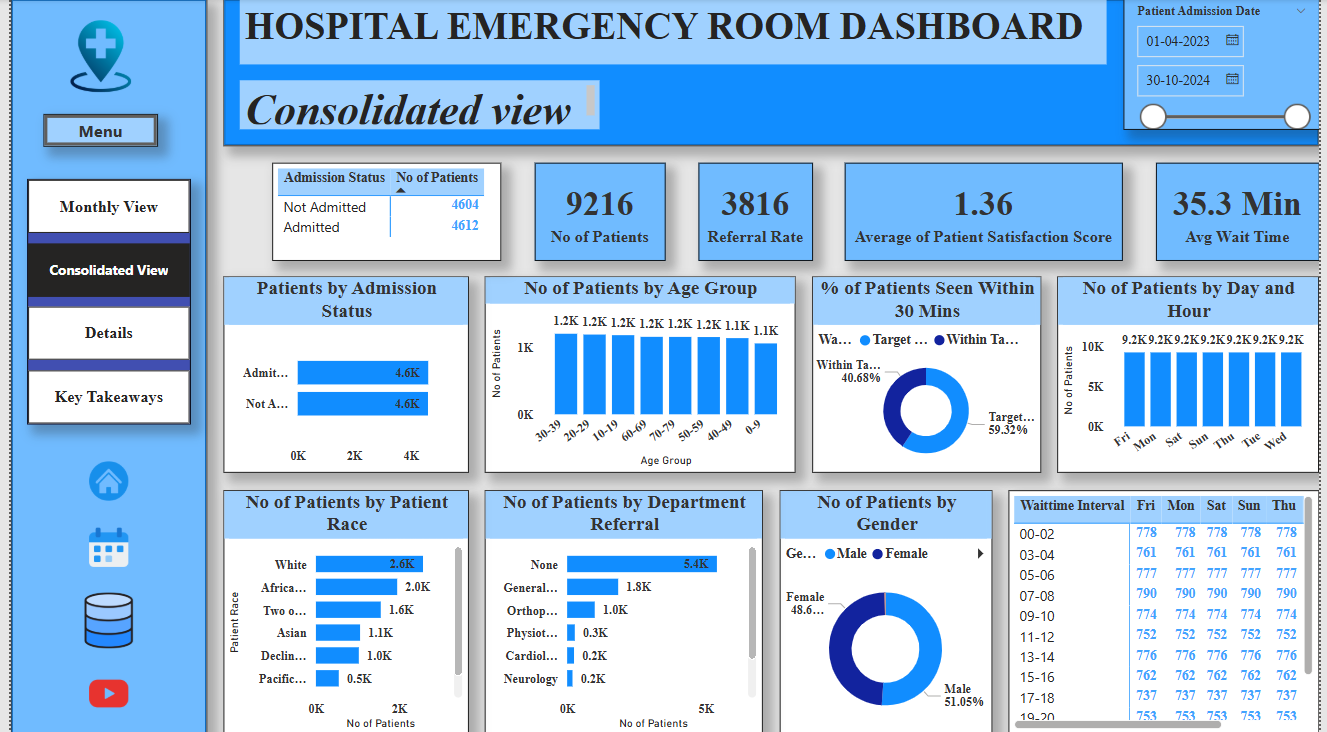

The dashboard page shown, as its layout file describes it:
{"tool":"powerbi","page":{"name":"Consolidated View","canvas":[1280,720],"ordinal":1},"visuals":[{"type":"shape","box":[0,0,192,720],"z":0},{"type":"shape","box":[208,0,1072,144],"z":1000},{"type":"card","fields":{"Values":["Hospital ER_Hospital ER.No of Patients"]},"box":[512,160,128,96],"z":2000},{"type":"card","fields":{"Values":["Hospital ER_Hospital ER.Referral Rate"]},"box":[672,160,112,96],"z":3000},{"type":"card","fields":{"Values":["Avg(Hospital ER_Hospital ER.Patient Satisfaction Score)"]},"box":[816,160,272,96],"z":4000},{"type":"card","fields":{"Values":["Hospital ER_Hospital ER.Avg Wait Time"]},"box":[1120,160,160,96],"z":5000},{"type":"donutChart","title":"% of Patients Seen Within 30 Mins","fields":{"Y":["Hospital ER_Hospital ER.No of Patients"],"Category":["Hospital ER_Hospital ER.Waittime Status"]},"box":[784,272,224,192],"z":6000},{"type":"donutChart","fields":{"Category":["Hospital ER_Hospital ER.Full Gender"],"Y":["Hospital ER_Hospital ER.No of Patients"]},"box":[752,480,208,240],"z":7000},{"type":"clusteredBarChart","fields":{"Category":["Hospital ER_Hospital ER.Department Referral"],"Y":["Hospital ER_Hospital ER.No of Patients"]},"box":[464,480,272,240],"z":8000},{"type":"clusteredBarChart","fields":{"Category":["Hospital ER_Hospital ER.Patient Race"],"Y":["Hospital ER_Hospital ER.No of Patients"]},"box":[208,480,240,240],"z":9000},{"type":"clusteredColumnChart","fields":{"Category":["Hospital ER_Hospital ER.Age Group"],"Y":["Hospital ER_Hospital ER.No of Patients"]},"box":[464,272,304,192],"z":10000},{"type":"clusteredColumnChart","title":"No of Patients by Day and Hour","fields":{"Category":["Calendar Table.Day Name"],"Y":["Hospital ER_Hospital ER.No of Patients"]},"box":[1024,272,256,192],"z":11000},{"type":"pivotTable","fields":{"Rows":["Hospital ER_Hospital ER.Admission Status"],"Values":["Hospital ER_Hospital ER.No of Patients"]},"box":[256,160,224,96],"z":12000},{"type":"barChart","title":"Patients by Admission Status","fields":{"Category":["Hospital ER_Hospital ER.Admission Status"],"Y":["Hospital ER_Hospital ER.No of Patients"]},"box":[208,272,240,192],"z":13000},{"type":"pivotTable","fields":{"Columns":["Calendar Table.Day Name"],"Values":["Hospital ER_Hospital ER.No of Patients"],"Rows":["Hospital ER_Hospital ER.Waittime Interval"]},"box":[976,480,304,240],"z":14000},{"type":"textbox","box":[224,0,848,64],"z":15000},{"type":"textbox","box":[224,80,352,48],"z":16000},{"type":"image","box":[16,16,144,80],"z":17000},{"type":"actionButton","box":[32,112,112,32],"z":18000},{"type":"image","box":[64,448,64,48],"z":19000},{"type":"image","box":[64,512,64,48],"z":20000},{"type":"image","box":[64,576,64,64],"z":21000},{"type":"image","box":[64,656,64,48],"z":22000},{"type":"pageNavigator","box":[16,176,160,240],"z":23000},{"type":"slicer","fields":{"Values":["Hospital ER_Hospital ER.Patient Admission Date"]},"box":[1088,0,192,128],"z":24000}]}

Visuals, with their boxes in screenshot pixels (x1, y1, x2, y2), scaled from the page's 1280x720 canvas onto the 1327x732 screenshot:
shape: pyautogui.locateOnScreen(0, 0, 199, 731)
shape: pyautogui.locateOnScreen(216, 0, 1326, 146)
card - Hospital ER_Hospital ER.No of Patients: pyautogui.locateOnScreen(531, 163, 664, 260)
card - Hospital ER_Hospital ER.Referral Rate: pyautogui.locateOnScreen(697, 163, 813, 260)
card - Avg(Hospital ER_Hospital ER.Patient Satisfaction Score): pyautogui.locateOnScreen(846, 163, 1128, 260)
card - Hospital ER_Hospital ER.Avg Wait Time: pyautogui.locateOnScreen(1161, 163, 1326, 260)
"% of Patients Seen Within 30 Mins" donutChart: pyautogui.locateOnScreen(813, 277, 1045, 472)
donutChart - Hospital ER_Hospital ER.Full Gender x Hospital ER_Hospital ER.No of Patients: pyautogui.locateOnScreen(780, 488, 995, 731)
clusteredBarChart - Hospital ER_Hospital ER.Department Referral x Hospital ER_Hospital ER.No of Patients: pyautogui.locateOnScreen(481, 488, 763, 731)
clusteredBarChart - Hospital ER_Hospital ER.Patient Race x Hospital ER_Hospital ER.No of Patients: pyautogui.locateOnScreen(216, 488, 464, 731)
clusteredColumnChart - Hospital ER_Hospital ER.Age Group x Hospital ER_Hospital ER.No of Patients: pyautogui.locateOnScreen(481, 277, 796, 472)
"No of Patients by Day and Hour" clusteredColumnChart: pyautogui.locateOnScreen(1062, 277, 1326, 472)
pivotTable - Hospital ER_Hospital ER.Admission Status x Hospital ER_Hospital ER.No of Patients: pyautogui.locateOnScreen(265, 163, 498, 260)
"Patients by Admission Status" barChart: pyautogui.locateOnScreen(216, 277, 464, 472)
pivotTable - Calendar Table.Day Name x Hospital ER_Hospital ER.No of Patients: pyautogui.locateOnScreen(1012, 488, 1326, 731)
textbox: pyautogui.locateOnScreen(232, 0, 1111, 65)
textbox: pyautogui.locateOnScreen(232, 81, 597, 130)
image: pyautogui.locateOnScreen(17, 16, 166, 98)
actionButton: pyautogui.locateOnScreen(33, 114, 149, 146)
image: pyautogui.locateOnScreen(66, 455, 133, 504)
image: pyautogui.locateOnScreen(66, 521, 133, 569)
image: pyautogui.locateOnScreen(66, 586, 133, 651)
image: pyautogui.locateOnScreen(66, 667, 133, 716)
pageNavigator: pyautogui.locateOnScreen(17, 179, 182, 423)
slicer - Hospital ER_Hospital ER.Patient Admission Date: pyautogui.locateOnScreen(1128, 0, 1326, 130)
